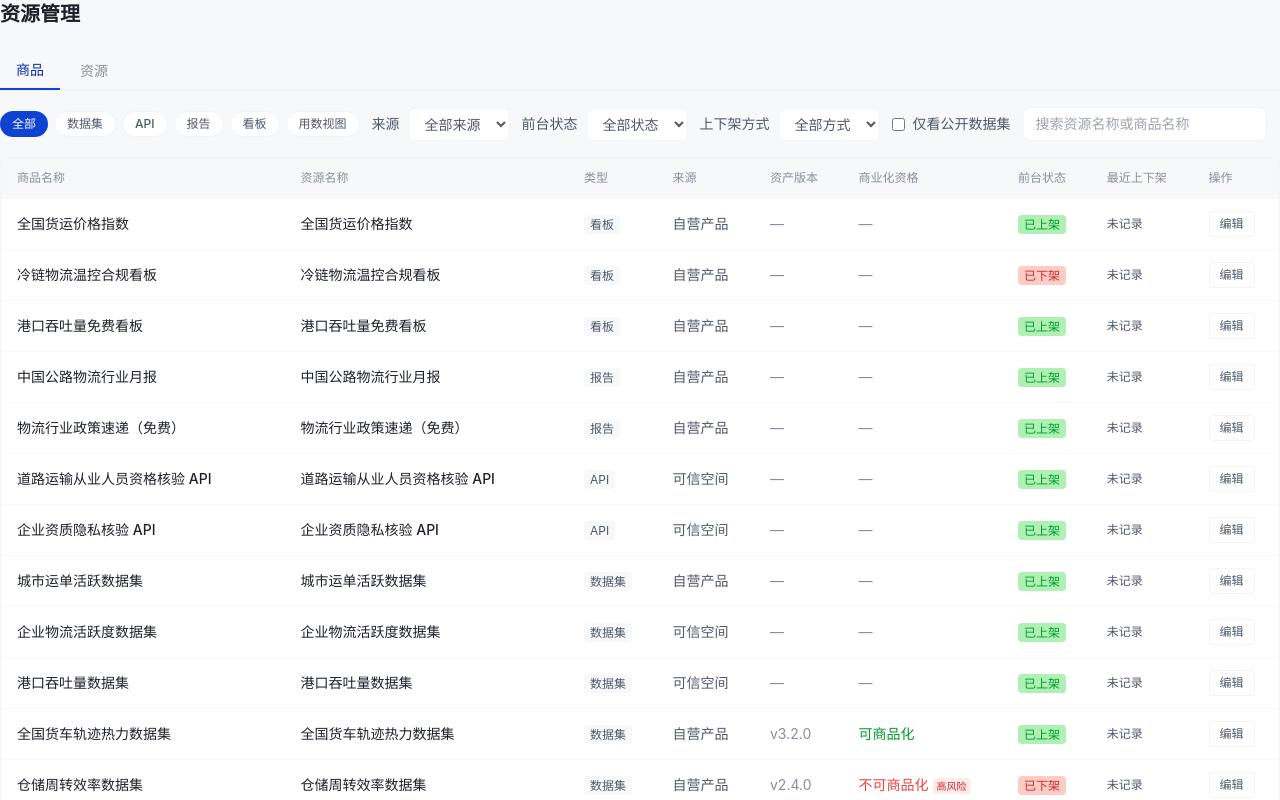
Test: ResourceCenter listing entry › filters the products tab by frontend state without affecting the resources tab
Select "草稿" in the dropdown named "前台状态": {"x": 637, "y": 124} [586, 108, 688, 140]
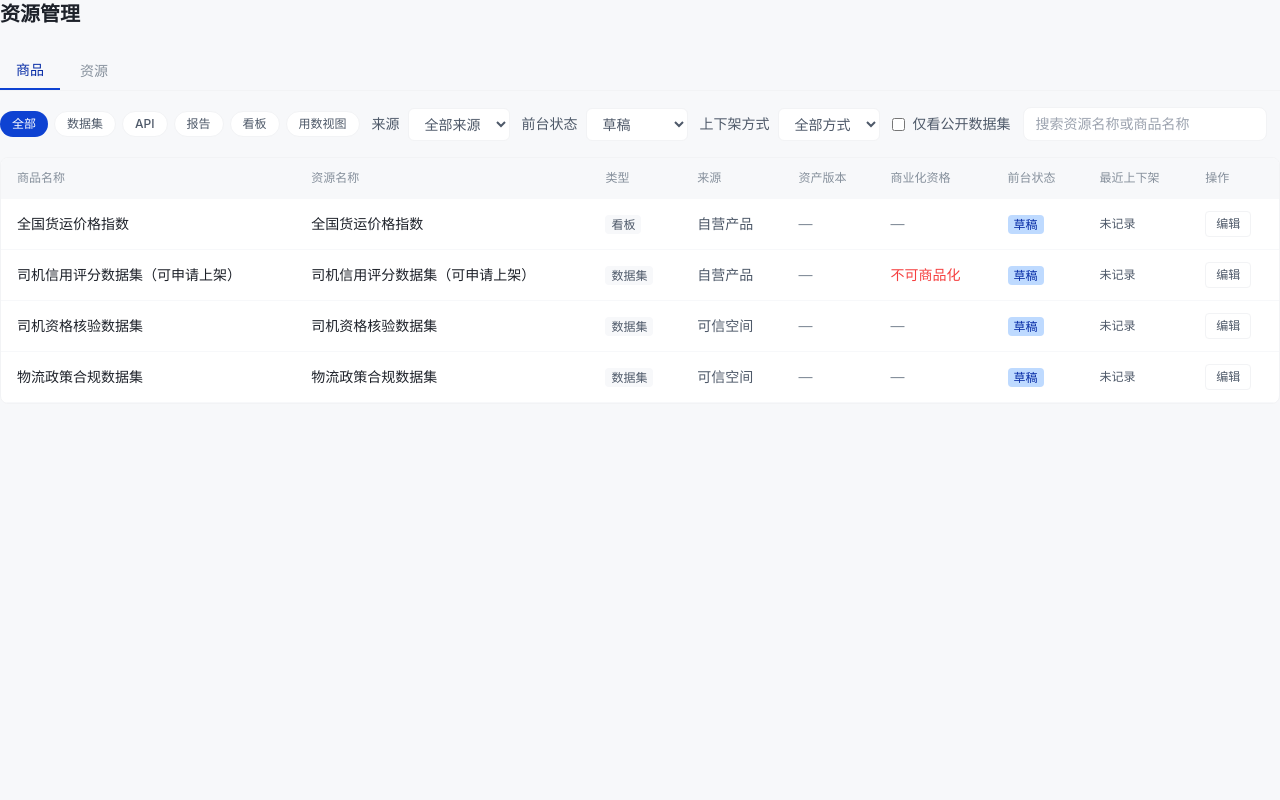
Expected: the row "全国货运价格指数 全国货运价格指数 看板 自营产品 — — 草稿 未记录 编辑" is shown, [1, 198, 1279, 250]
Select "已上架" in the dropdown named "前台状态": {"x": 637, "y": 124} [586, 108, 688, 140]
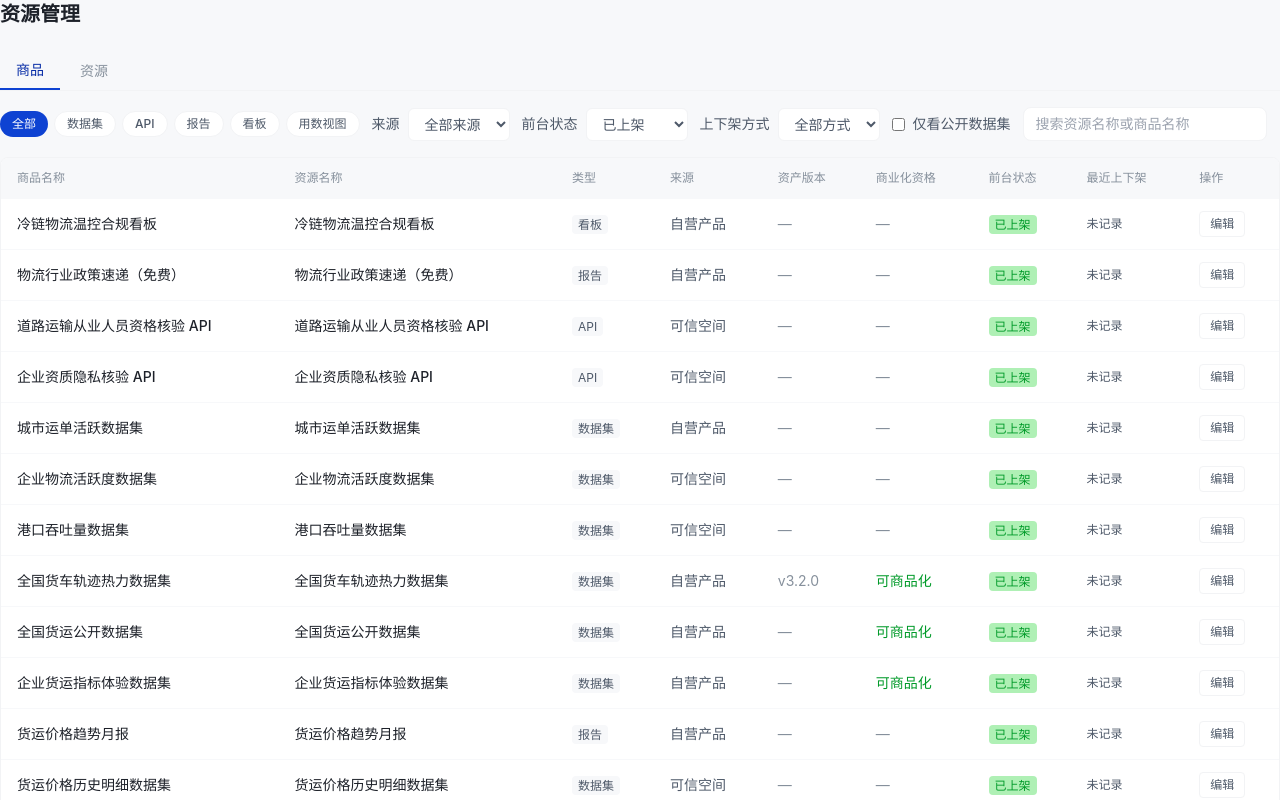
Expected: the row "冷链物流温控合规看板 冷链物流温控合规看板 看板 自营产品 — — 已上架 未记录 编辑" is shown, [1, 198, 1279, 250]
Select "已下架" in the dropdown named "前台状态": {"x": 637, "y": 124} [586, 108, 688, 140]
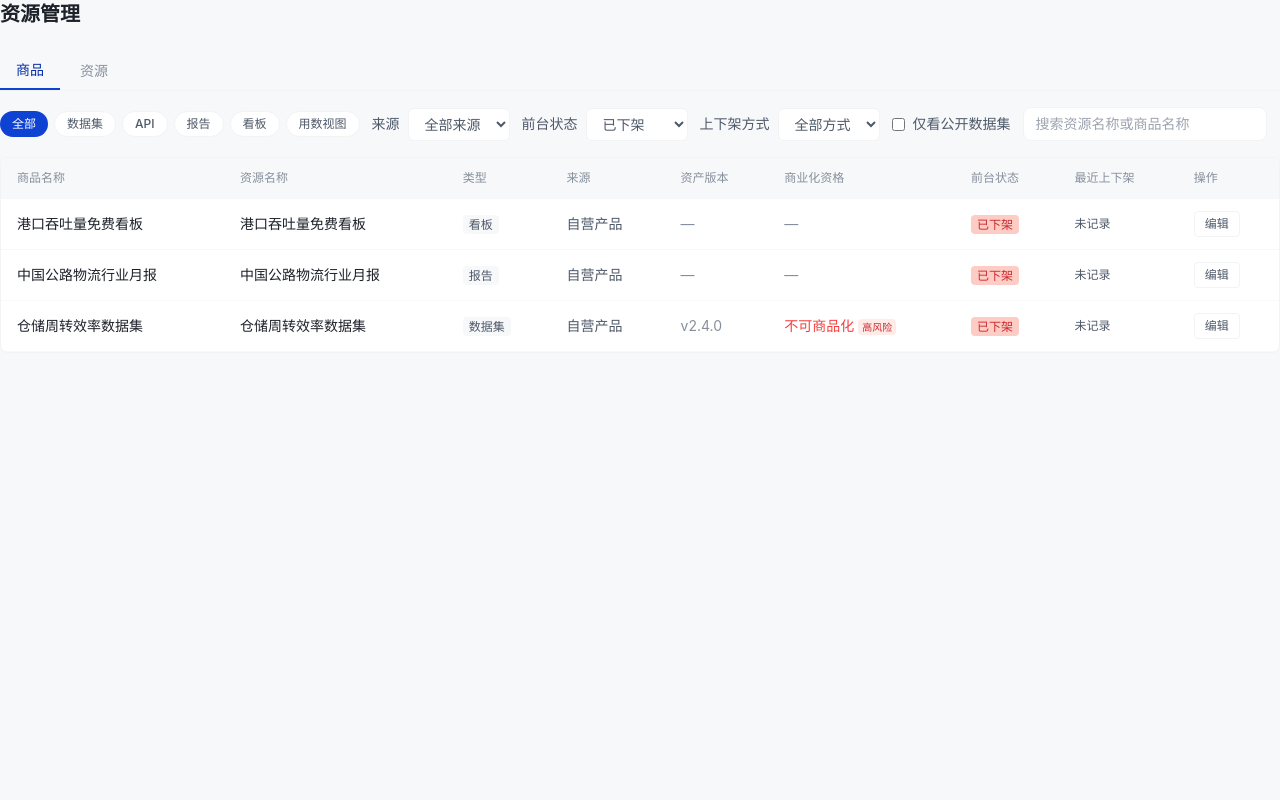
Expected: the row "港口吞吐量免费看板 港口吞吐量免费看板 看板 自营产品 — — 已下架 未记录 编辑" is shown, [1, 198, 1279, 250]
Select "已下架" in the dropdown named "前台状态": {"x": 637, "y": 124} [586, 108, 688, 140]
Click the tab with test id "resource-center-tab-resources": {"x": 94, "y": 71} [64, 52, 124, 90]
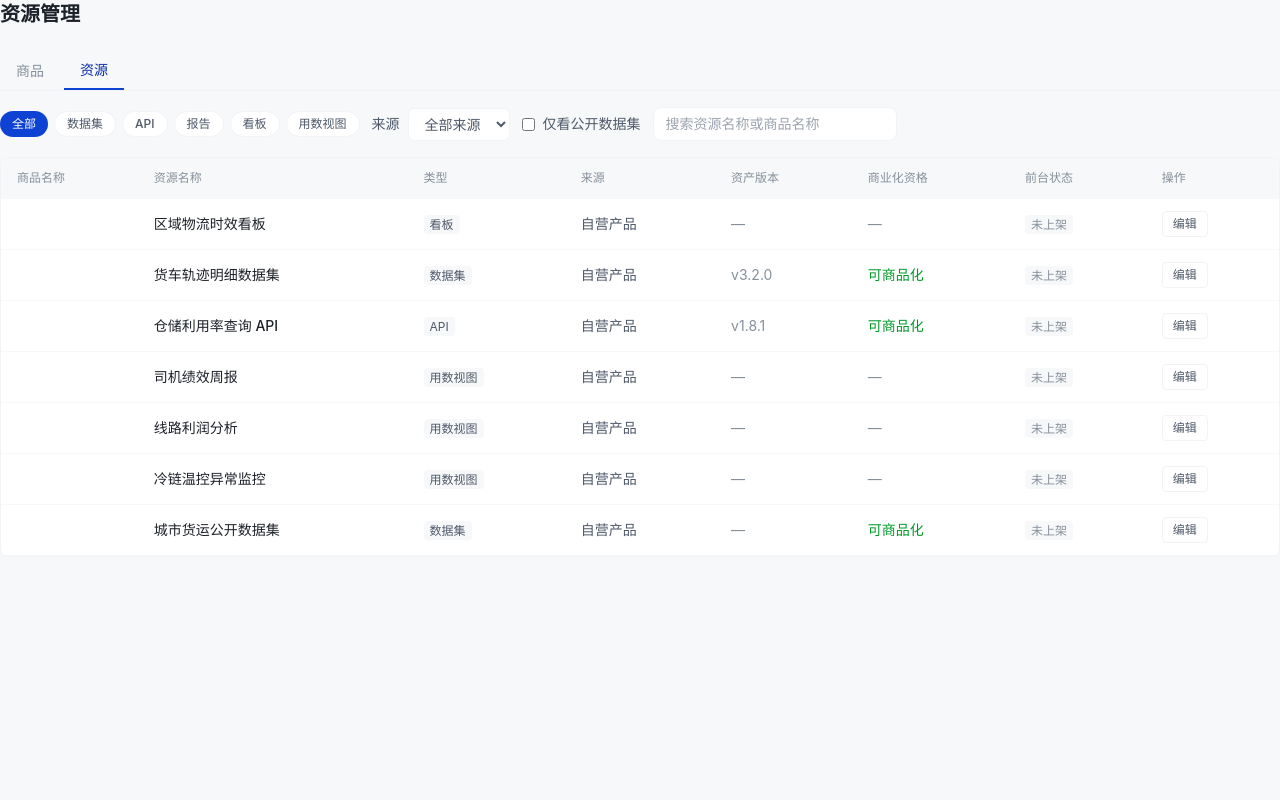
Expected: the text "货车轨迹明细数据集" is shown, [138, 250, 408, 300]
Click the tab with test id "resource-center-tab-products": {"x": 30, "y": 71} [0, 52, 60, 90]
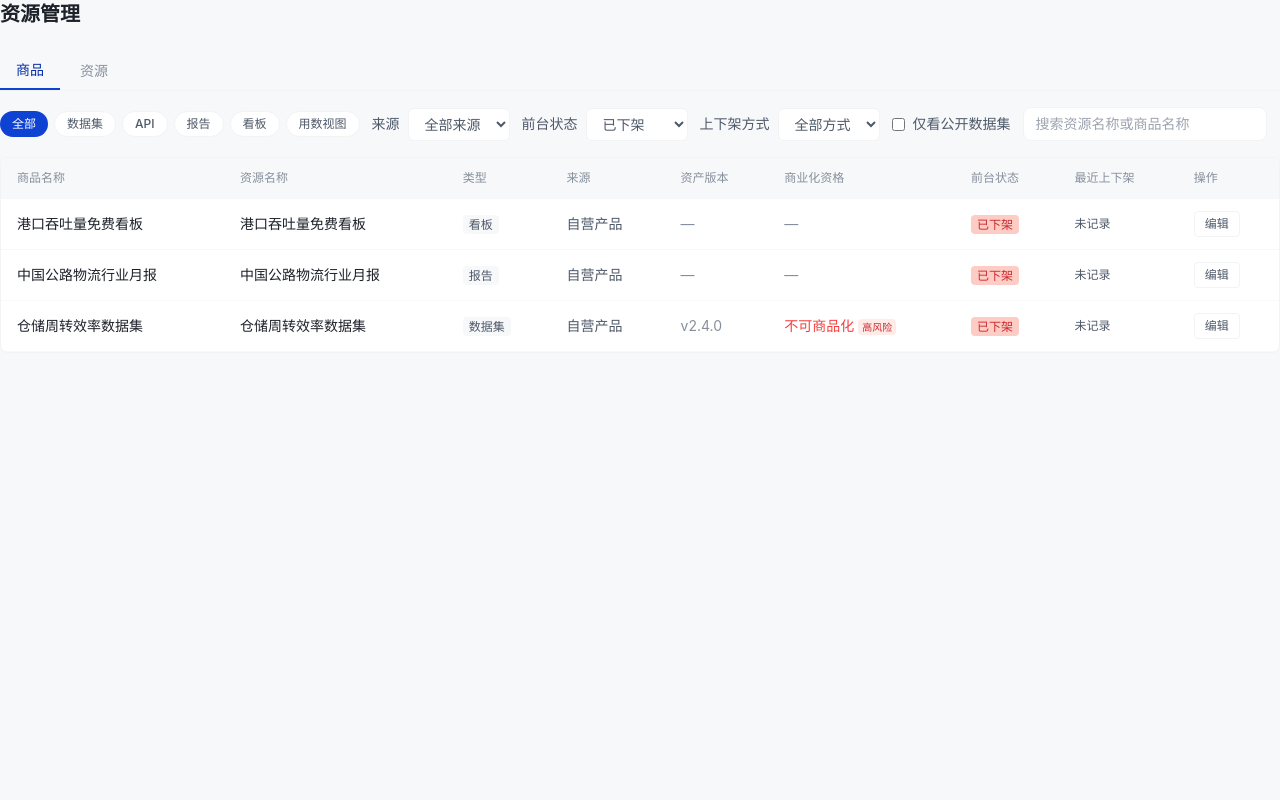
Expected: the dropdown named "前台状态" shows "已下架", [586, 108, 688, 140]
In the field with placeholder "搜索资源名称或商品名称": {"x": 1145, "y": 124} [1023, 107, 1267, 141], type "不存在的商品"
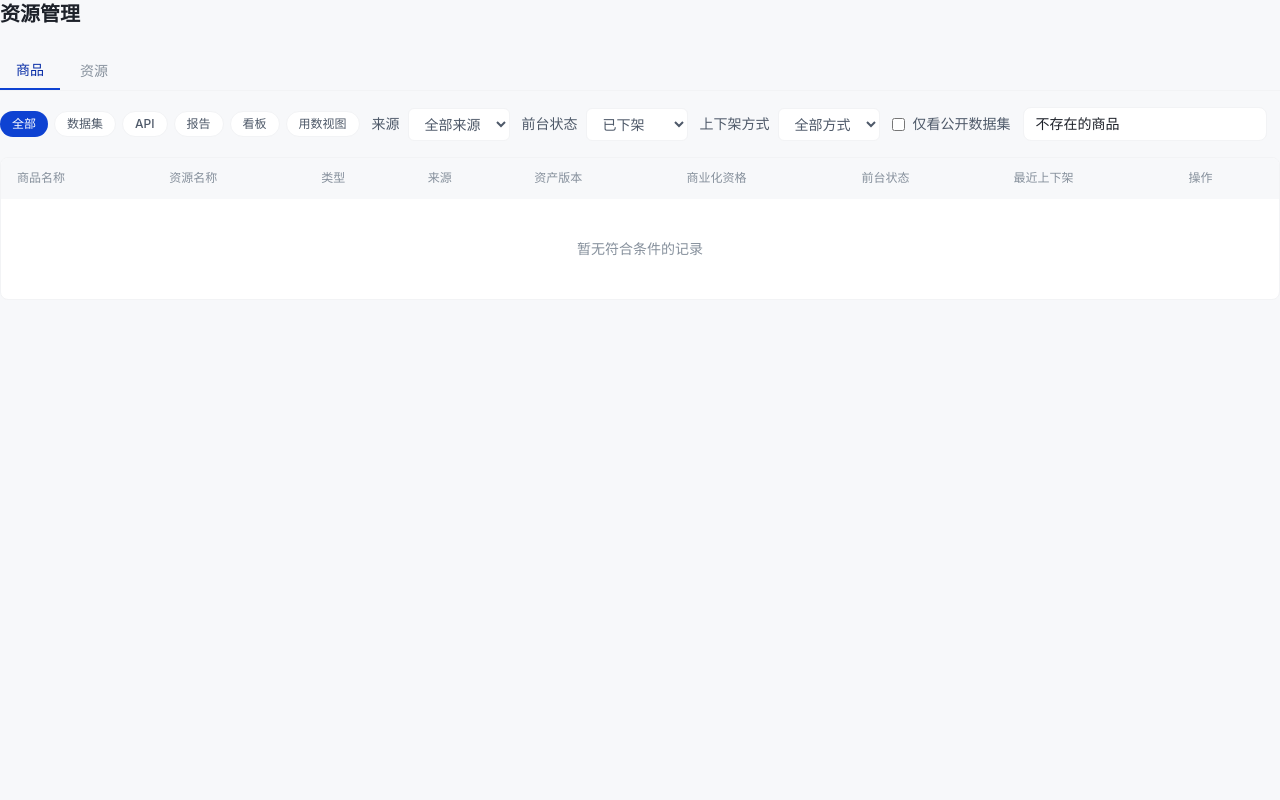
Expected: the text "暂无符合条件的记录" is shown, [1, 198, 1279, 299]
